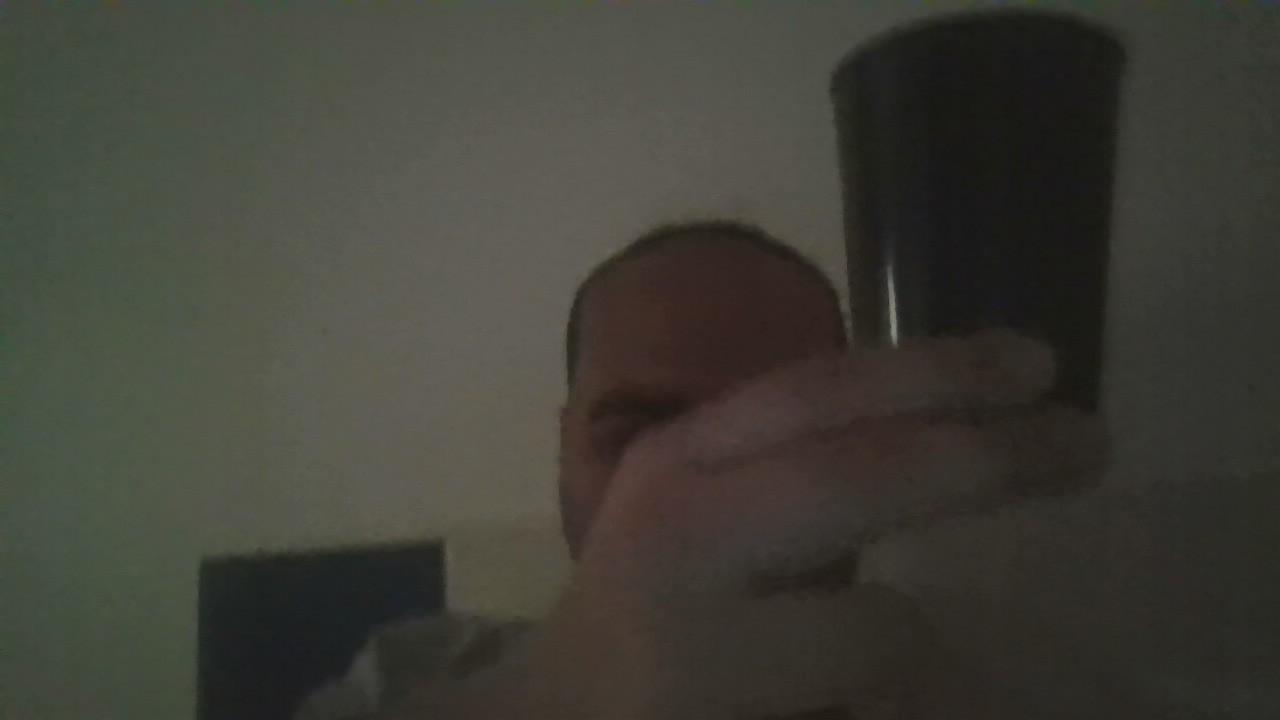cup: (830, 9, 1125, 410)
